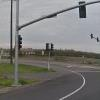Traffic light: (13, 29, 29, 59)
